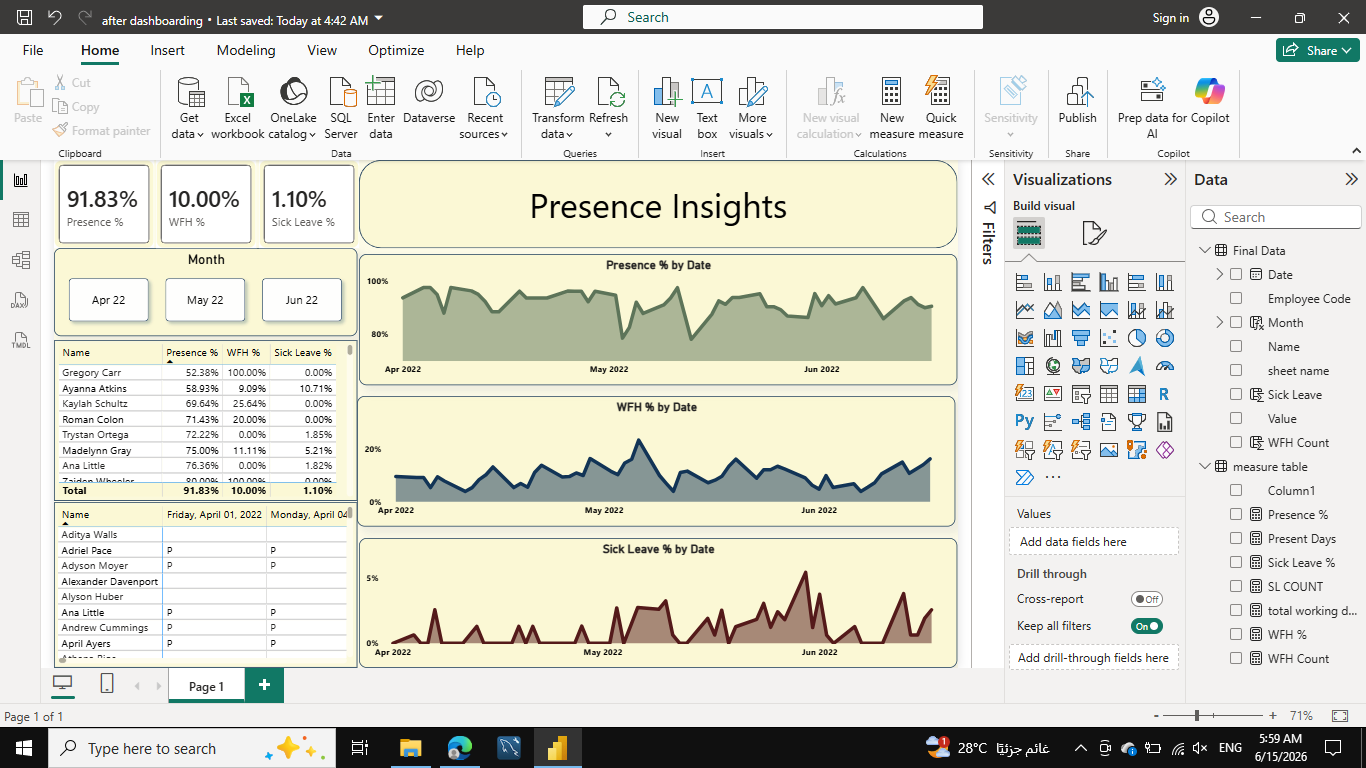

This screenshot's page, from the dashboard's own definition file:
{"tool":"powerbi","page":{"name":"Page 1","canvas":[1280,720],"ordinal":0},"visuals":[{"type":"cardVisual","fields":{"Data":["measure table.Presence %"]},"box":[0,0,142,125],"z":0},{"type":"advancedSlicerVisual","fields":{"Values":["Final Data.Month"]},"box":[0,125,430,125],"z":1000},{"type":"cardVisual","fields":{"Data":["measure table.WFH %"]},"box":[145,0,142,125],"z":2000},{"type":"cardVisual","fields":{"Data":["measure table.Sick Leave %"]},"box":[290,0,142,125],"z":3000},{"type":"tableEx","fields":{"Values":["Final Data.Name","measure table.Presence %","measure table.WFH %","measure table.Sick Leave %"]},"box":[0,255,430,228],"z":4000},{"type":"shape","box":[431.7,0,848.3,125],"z":5000},{"type":"pivotTable","fields":{"Rows":["Final Data.Name"],"Values":["Min(Final Data.Value)"],"Columns":["Final Data.Date"]},"box":[0,485,430,235],"z":6000},{"type":"lineChart","fields":{"Category":["Final Data.Date"],"Y":["measure table.WFH %"]},"box":[430,335,848.3,185],"z":7000},{"type":"lineChart","fields":{"Y":["measure table.Presence %"],"Category":["Final Data.Date"]},"box":[432.3,133,847.6,185.7],"z":8000},{"type":"lineChart","fields":{"Category":["Final Data.Date"],"Y":["measure table.Sick Leave %"]},"box":[432.3,535.7,847.6,184.3],"z":9000}]}

Visuals, with their boxes on the page's 1280x720 design canvas (x1, y1, x2, y2). These are canvas units, not pixel positions in the 1366x768 screenshot, which may show the page scaled, cropped or inside an application window:
cardVisual - measure table.Presence %: <box>0,0,142,125</box>
advancedSlicerVisual - Final Data.Month: <box>0,125,430,250</box>
cardVisual - measure table.WFH %: <box>145,0,287,125</box>
cardVisual - measure table.Sick Leave %: <box>290,0,432,125</box>
tableEx - Final Data.Name x measure table.Presence %: <box>0,255,430,483</box>
shape: <box>432,0,1280,125</box>
pivotTable - Final Data.Name x Min(Final Data.Value): <box>0,485,430,720</box>
lineChart - Final Data.Date x measure table.WFH %: <box>430,335,1278,520</box>
lineChart - measure table.Presence % x Final Data.Date: <box>432,133,1280,319</box>
lineChart - Final Data.Date x measure table.Sick Leave %: <box>432,536,1280,720</box>
